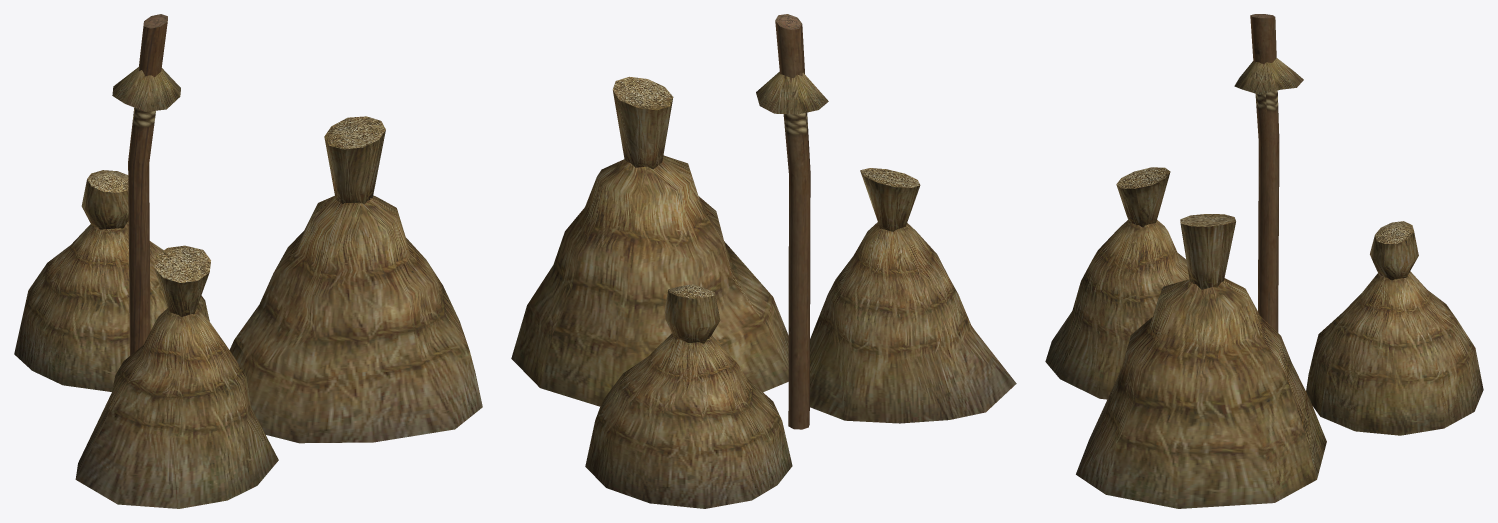
File: SV_AFT_forest_caodui_1.FBX
3 views of the same model, side by side, from view 1: azimuth 30°, elevation 25°; view 2: azimuth 150°, elevation 25°; view 3: azimuth 270°, elevation 25° (orthographic). The views are drawn at different scales.
Visible parts, largest first — view 1: SV_AFT_forest_caodui_1; view 2: SV_AFT_forest_caodui_1; view 3: SV_AFT_forest_caodui_1.
Boxes of the visible parts, left/top/right/bottom form: SV_AFT_forest_caodui_1: left=14, top=14, right=482, bottom=508; SV_AFT_forest_caodui_1: left=511, top=14, right=1016, bottom=508; SV_AFT_forest_caodui_1: left=1045, top=14, right=1483, bottom=508.
Bounding box in the file's own units: 4.1 × 3.71 × 4.
